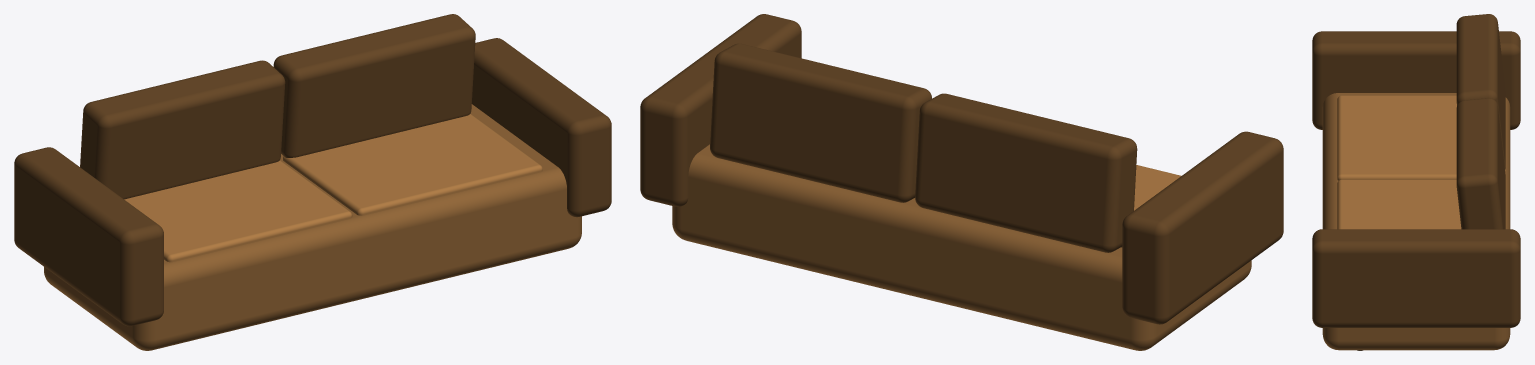
The picture shows the model from 3 angles, left to right: view 1: azimuth 30°, elevation 25°; view 2: azimuth 150°, elevation 25°; view 3: azimuth 270°, elevation 25°; orthographic projection. The views are drawn at different scales.
Visible parts, largest first — view 1: seat-base, back-cushion-1, back-cushion-2, arm-left, seat-cushion-2, arm-right, seat-cushion-1; view 2: seat-base, back-cushion-1, back-cushion-2, arm-left, arm-right, seat-cushion-1; view 3: arm-right, arm-left, seat-cushion-1, seat-base, seat-cushion-2, back-cushion-2, back-cushion-1.
Boxes of the visible parts, bbox=[...] form: seat-base: bbox=[44, 104, 581, 350]; back-cushion-1: bbox=[80, 60, 285, 199]; back-cushion-2: bbox=[273, 14, 475, 157]; arm-left: bbox=[14, 147, 163, 326]; seat-cushion-2: bbox=[283, 114, 542, 215]; arm-right: bbox=[472, 38, 611, 217]; seat-cushion-1: bbox=[124, 160, 352, 262]; seat-base: bbox=[672, 144, 1251, 350]; back-cushion-1: bbox=[915, 93, 1137, 252]; back-cushion-2: bbox=[710, 43, 931, 202]; arm-left: bbox=[1122, 131, 1283, 324]; arm-right: bbox=[640, 14, 801, 206]; seat-cushion-1: bbox=[1121, 165, 1181, 247]; arm-right: bbox=[1312, 229, 1520, 327]; arm-left: bbox=[1312, 31, 1520, 129]; seat-cushion-1: bbox=[1337, 95, 1456, 180]; seat-base: bbox=[1322, 93, 1510, 350]; seat-cushion-2: bbox=[1337, 179, 1461, 229]; back-cushion-2: bbox=[1456, 98, 1505, 229]; back-cushion-1: bbox=[1456, 14, 1505, 169].
Size of the model in its own units: 2.27 by 0.8189 by 0.92.
